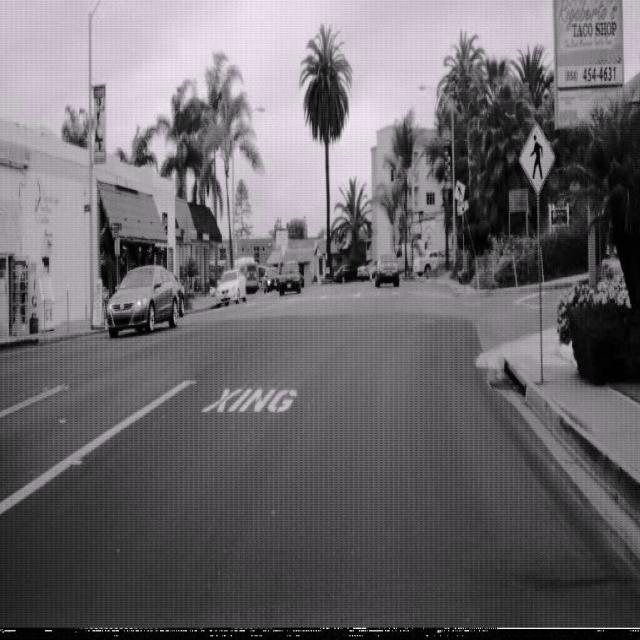pedestrianCrossing: (518, 119, 556, 196), (454, 179, 466, 204)
